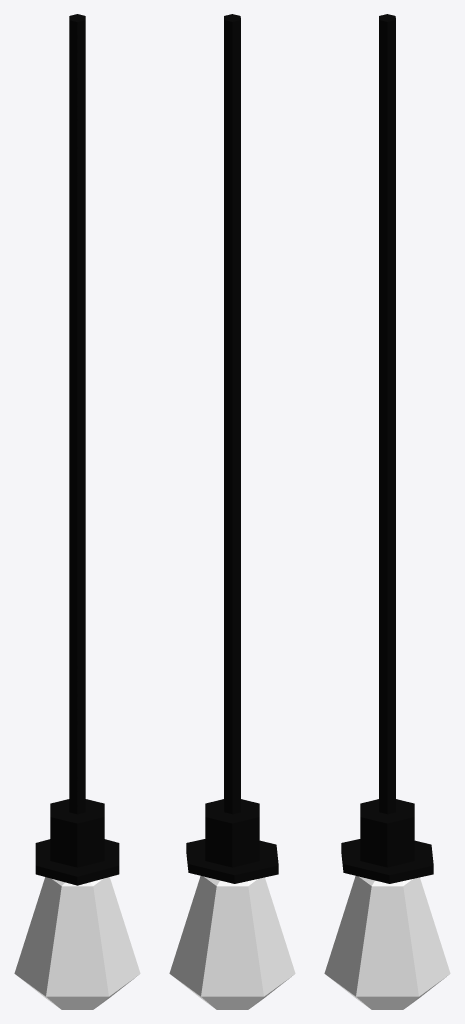
Rendered from lightbulb.gltf.
The picture shows the model from 3 angles, left to right: view 1: azimuth 90°, elevation 25°; view 2: azimuth 150°, elevation 25°; view 3: azimuth 330°, elevation 25°; orthographic projection.
Parts seen in each view (by area): view 1: cylinder (×2), cone; view 2: cylinder (×2), cone; view 3: cylinder (×2), cone.
Part boxes in pixels (x1,y1,x2,y2): cylinder (×2): (35, 14, 119, 885); cone: (14, 877, 140, 1009); cylinder (×2): (186, 14, 278, 883); cone: (169, 876, 295, 1009); cylinder (×2): (341, 14, 433, 883); cone: (324, 876, 450, 1009).
Size of the model in its own units: 0.125 by 1.24 by 0.1443.
1 material, 1 textured.
